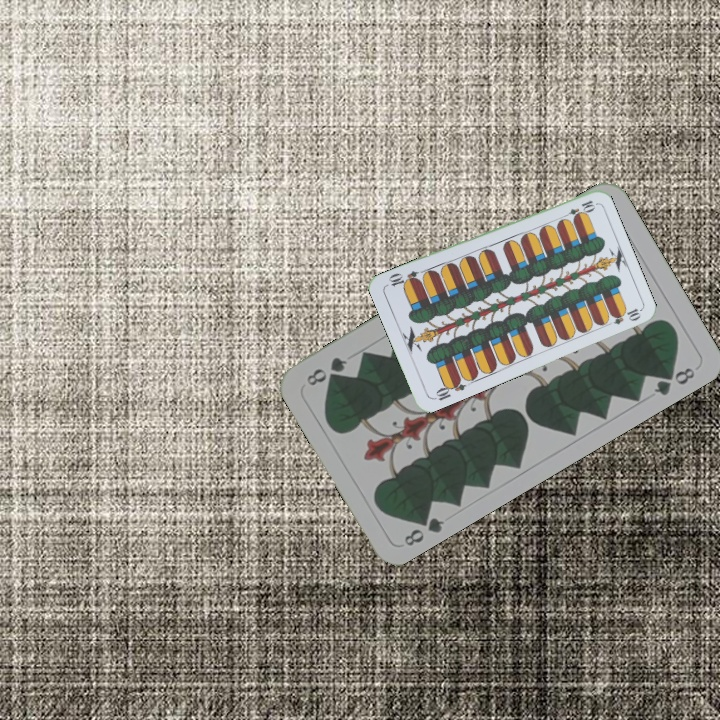E10: (429, 375, 468, 403), (558, 196, 597, 222)
G8: (399, 508, 447, 549)
